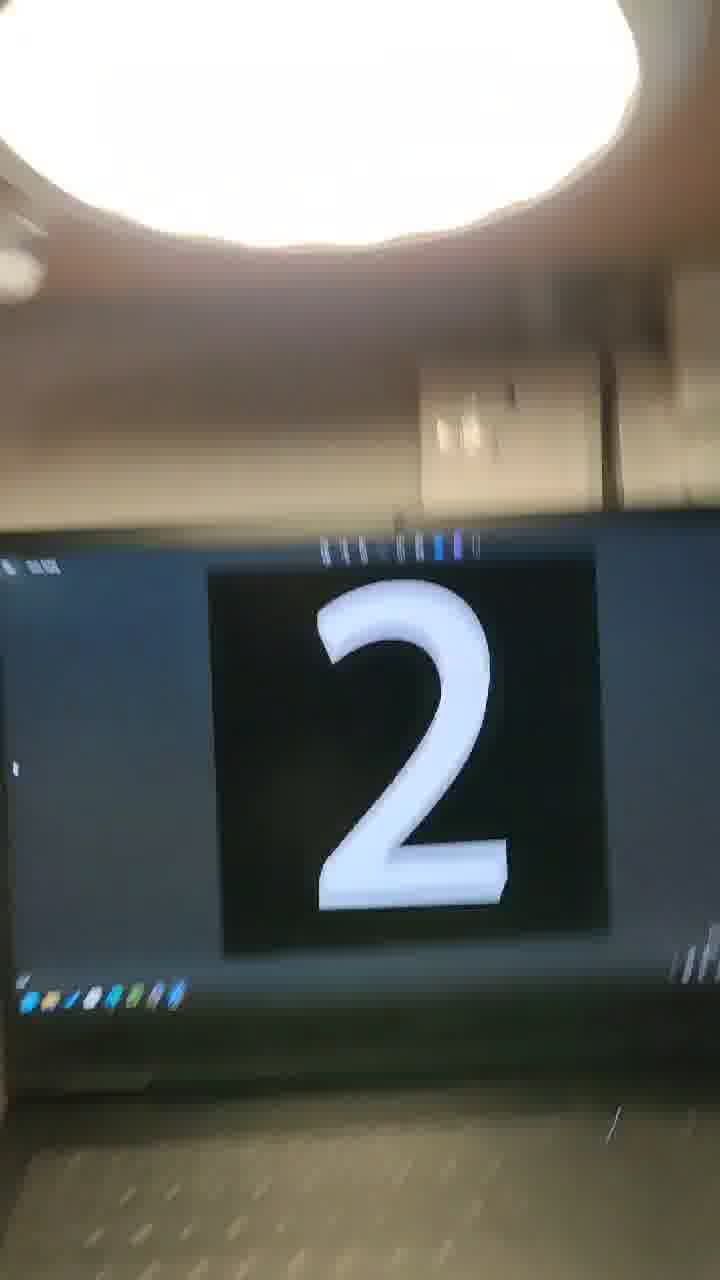two: (276, 497, 613, 978)
